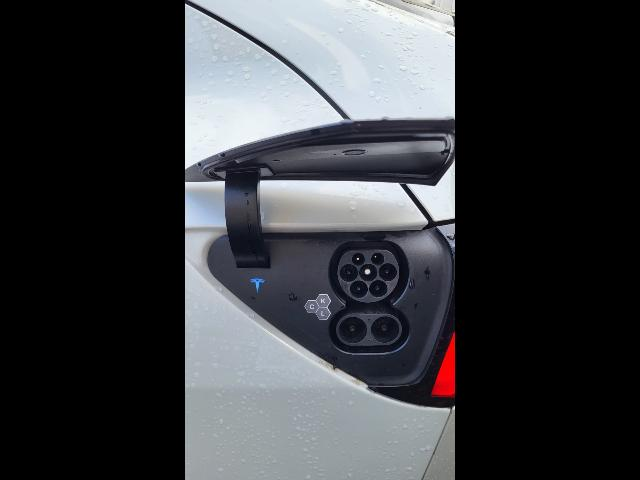inlet: (337, 250, 400, 303)
inlet-above-left: (352, 253, 365, 266)
inlet-above-right: (371, 252, 385, 265)
inlet-below-left: (350, 280, 368, 298)
inlet-below-right: (369, 280, 388, 298)
inlet-circle: (359, 264, 377, 282)
inlet-circle-left: (340, 264, 358, 282)
inlet-circle-right: (379, 263, 397, 281)
inlet-minus: (371, 317, 400, 343)
inlet-plus: (339, 317, 367, 343)
